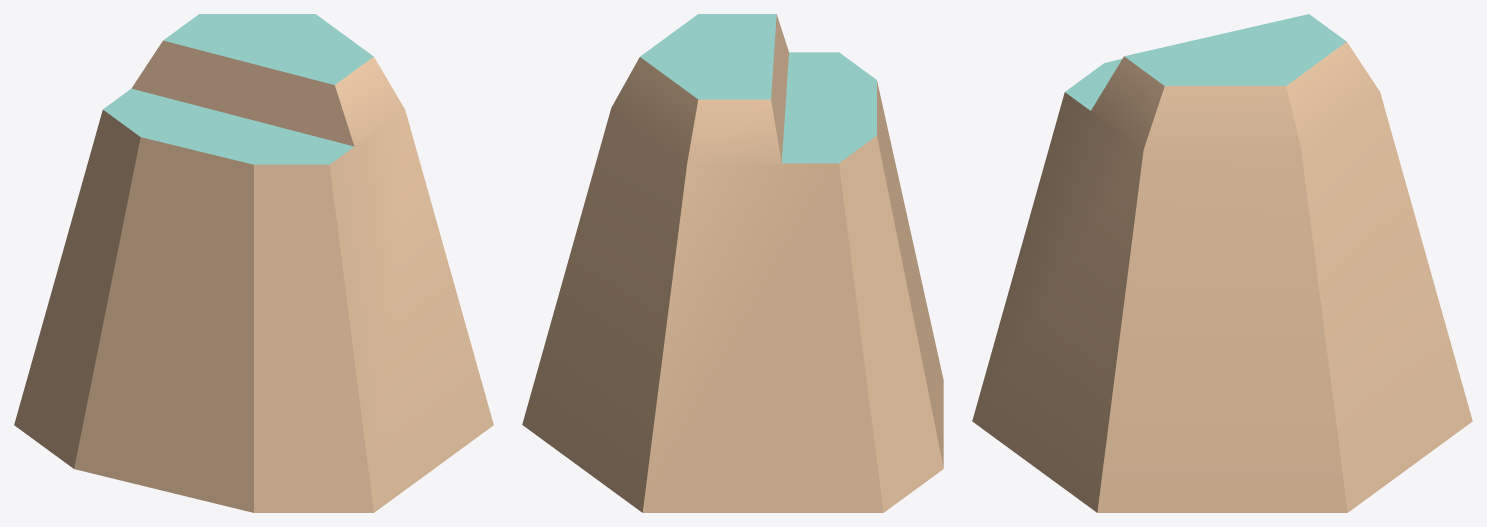
The model's file is rock_tall5.glb.
3 renders of one model, left to right at view 1: azimuth 30°, elevation 25°; view 2: azimuth 150°, elevation 25°; view 3: azimuth 270°, elevation 25°, orthographic. The views are drawn at different scales.
Visible parts, largest first — view 1: rock_tall5; view 2: rock_tall5; view 3: rock_tall5.
Boxes of the visible parts, <box> form: rock_tall5: <box>14,14,493,512</box>; rock_tall5: <box>522,14,943,512</box>; rock_tall5: <box>972,14,1472,512</box>.
Size of the model in its own units: 0.4562 by 0.4438 by 0.5268.
